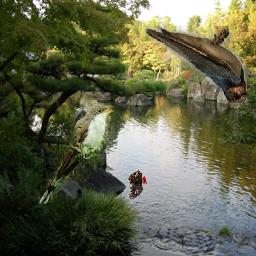Cuckoo: (39, 104, 116, 205)
Swallow: (145, 27, 247, 104)
Woodpecker: (129, 171, 148, 200)
